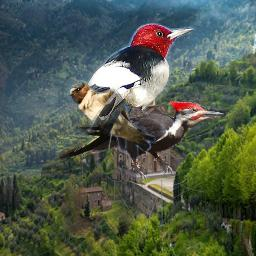Swallow: (67, 81, 156, 160)
Woodpecker: (59, 100, 227, 182), (77, 23, 197, 122)
